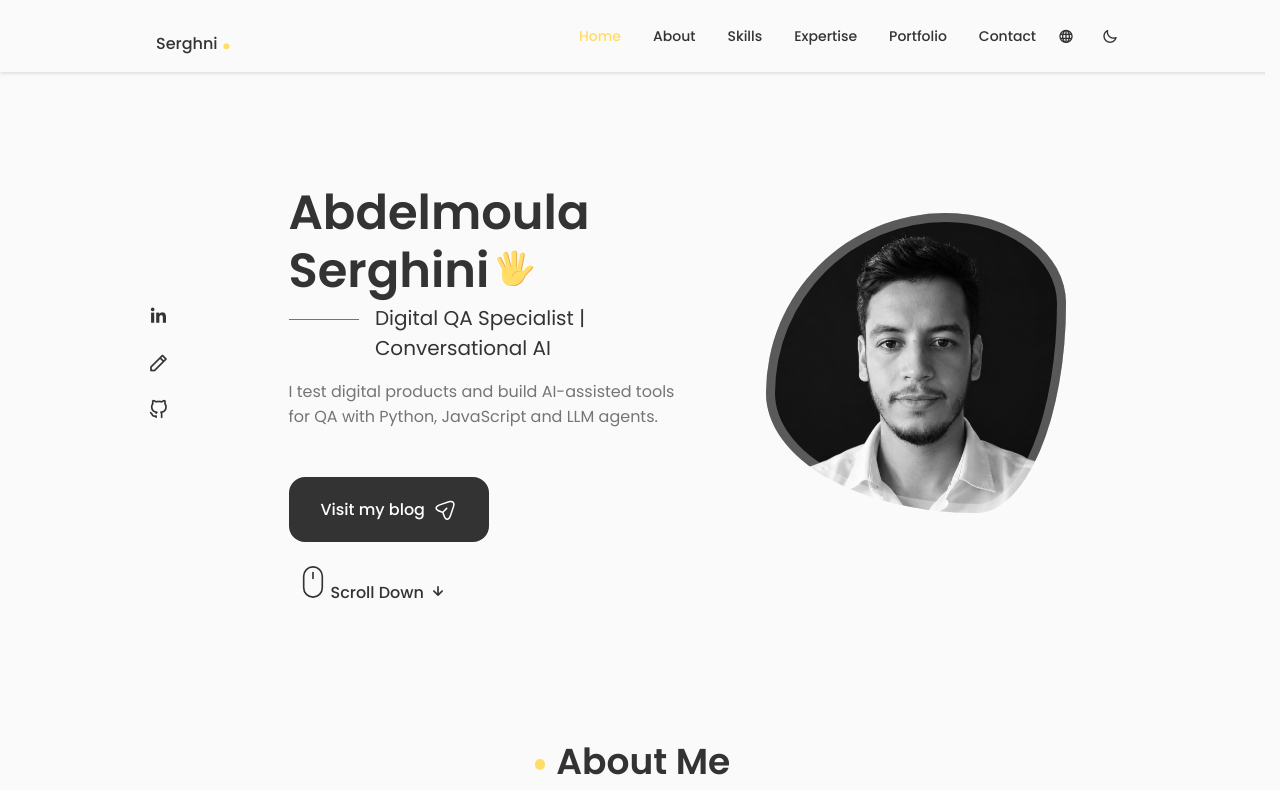
Test: toggles dark mode and remembers the choice
Click the button named "Switch to dark mode".
click(1110, 36)  # box [1096,22,1124,50]
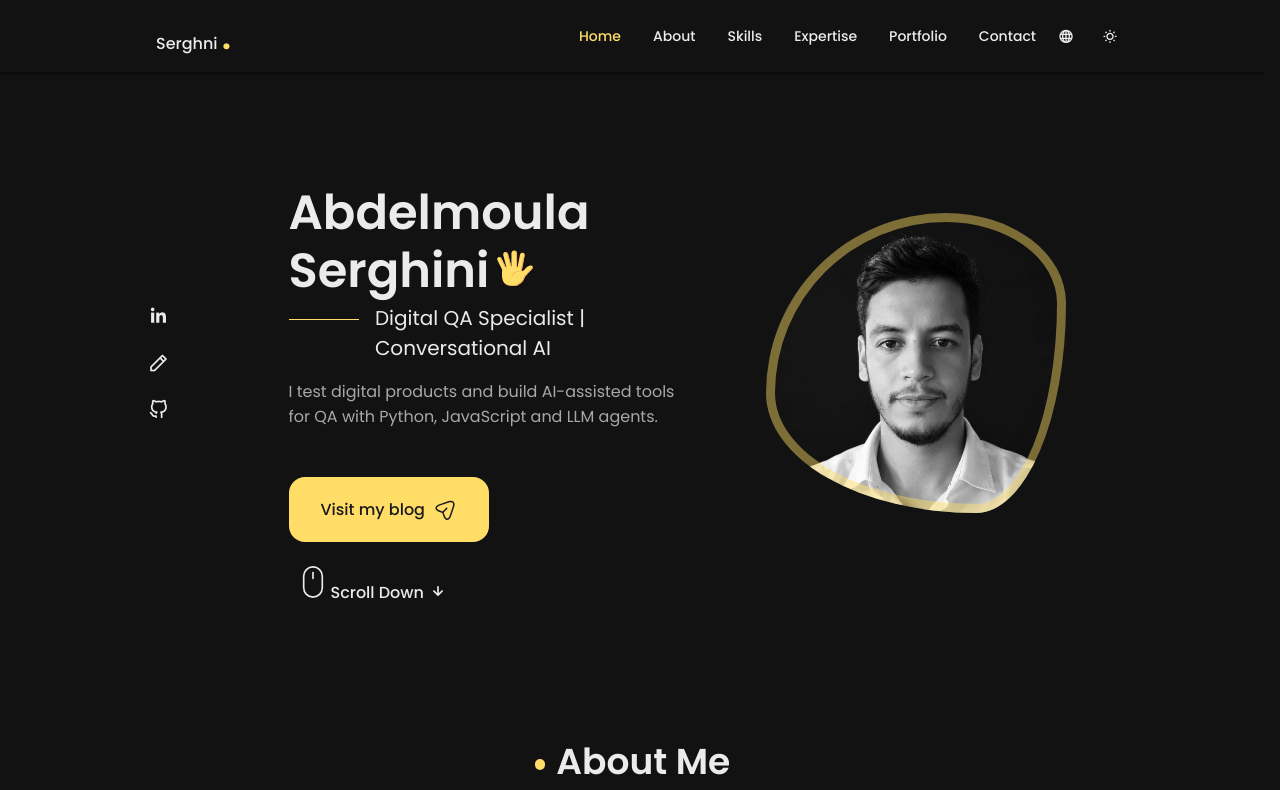
Check: the button named "Switch to light mode" is shown, box [1096,22,1124,50]
